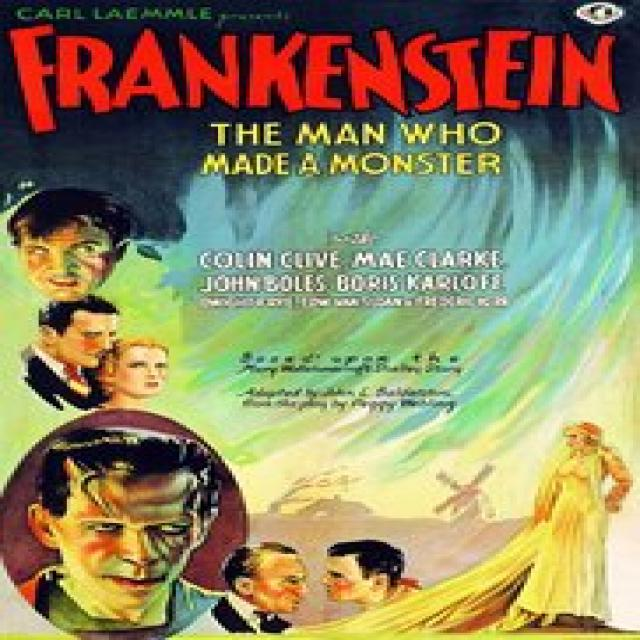movie-judul: (11, 22, 633, 177)
picture: (6, 188, 409, 640)
